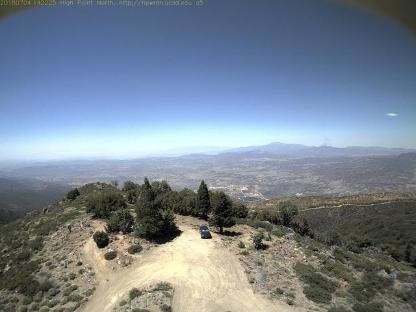smoke: (314, 136, 332, 156)
